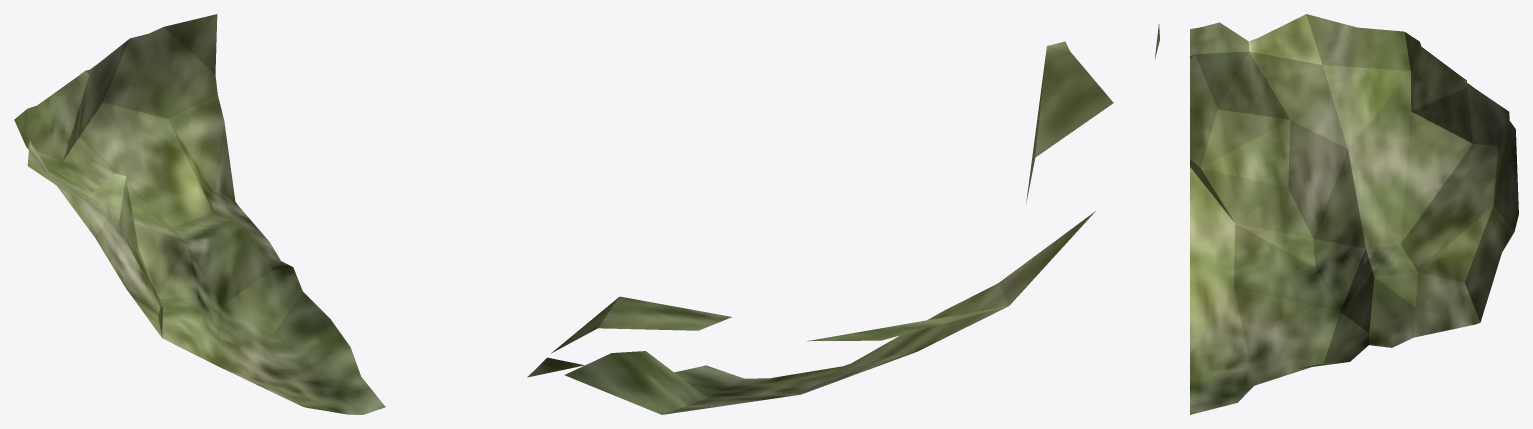
The picture shows the model from 3 angles, left to right: view 1: azimuth 30°, elevation 25°; view 2: azimuth 150°, elevation 25°; view 3: azimuth 270°, elevation 25°; orthographic projection. The views are drawn at different scales.
Size of the model in its own units: 0.6162 by 0.5376 by 0.6101.
Materials: 1 (1 with a texture image).
